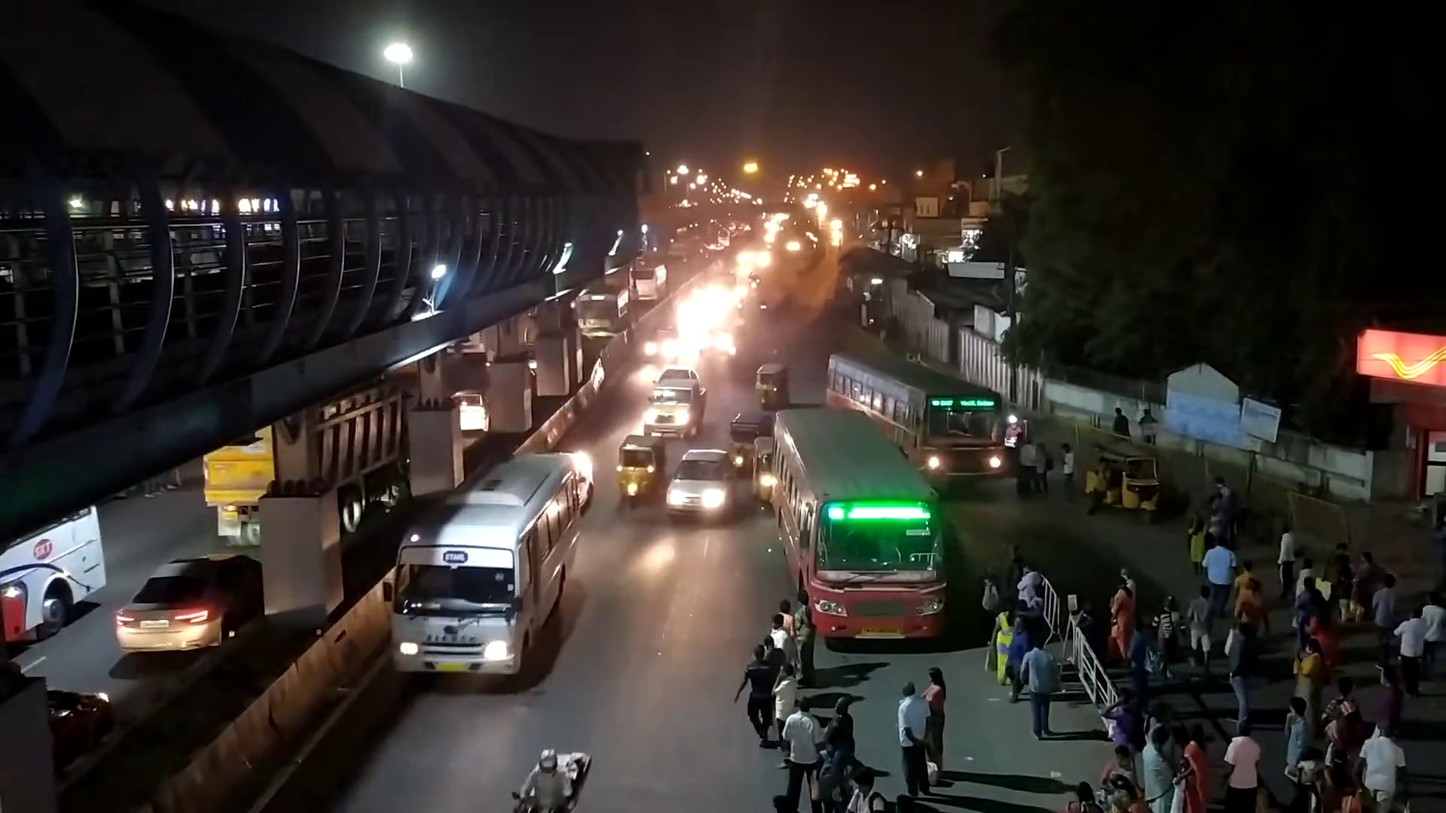driver_helmet: (512, 749, 579, 813)
motorcycle: (510, 748, 593, 813)
